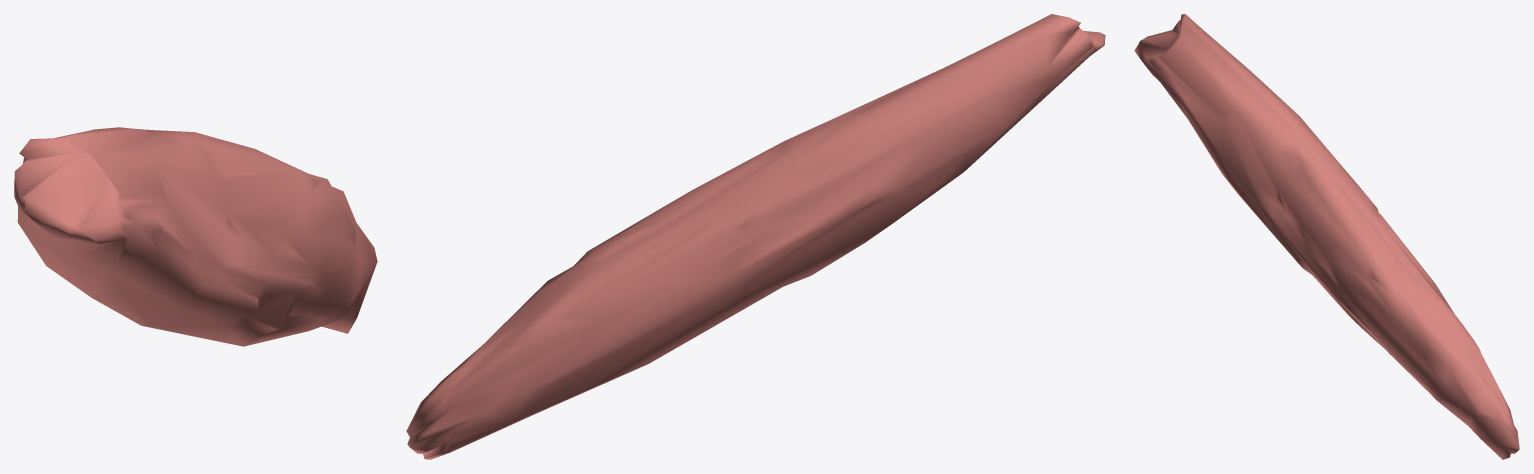
3 views of the same model, side by side, from view 1: azimuth 30°, elevation 25°; view 2: azimuth 150°, elevation 25°; view 3: azimuth 270°, elevation 25° (orthographic). The views are drawn at different scales.
Visible parts, largest first — view 1: ZA_4c5e8e8d5a591dae; view 2: ZA_4c5e8e8d5a591dae; view 3: ZA_4c5e8e8d5a591dae.
Boxes of the visible parts, box(x1,y1,x2,y2) form: ZA_4c5e8e8d5a591dae: box(14, 127, 377, 346); ZA_4c5e8e8d5a591dae: box(406, 14, 1105, 459); ZA_4c5e8e8d5a591dae: box(1134, 14, 1519, 459).
Size of the model in its own units: 0.0387 by 0.0315 by 0.0378.
